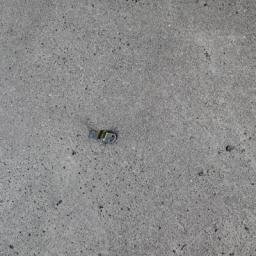FOD: (87, 123, 121, 152)
